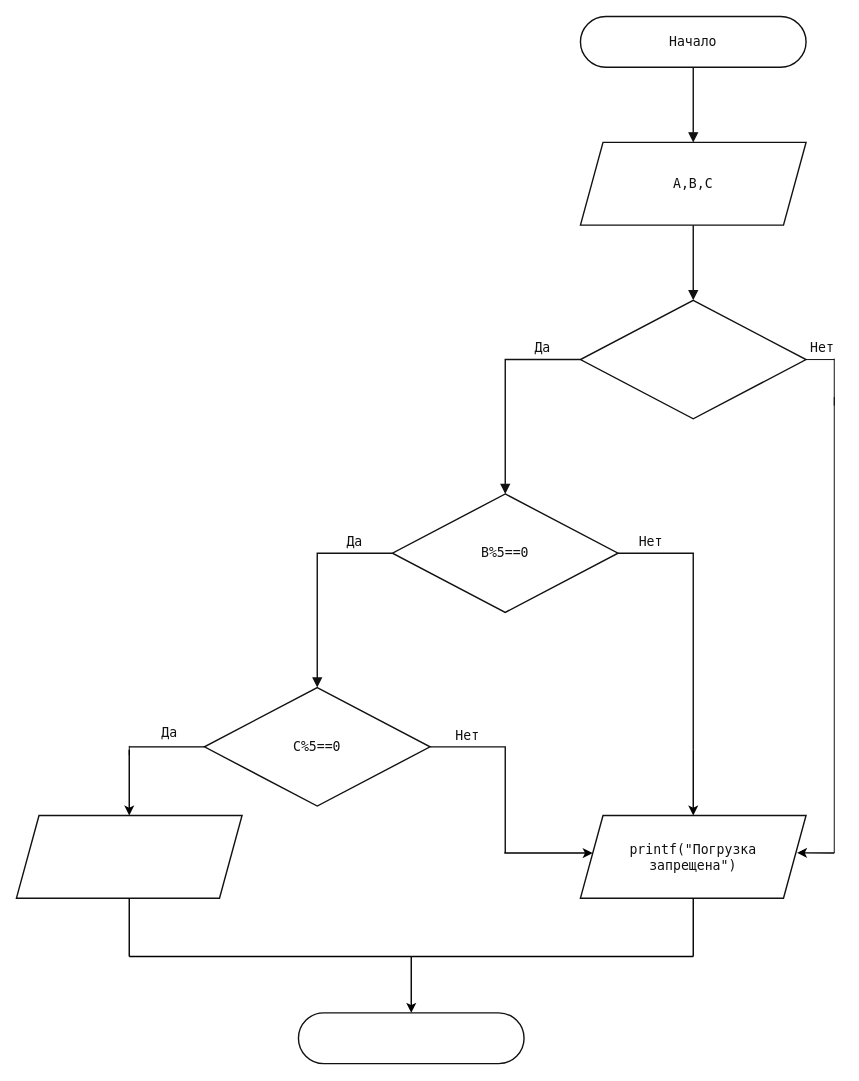
This 859x1081 diagram has some shape labels left out. The box of each missing label's shape, as (x1, y1, x2, y2) in pixels:
A%5==0: (579, 299, 806, 419)
printf("Погрузка разрешена"): (15, 814, 242, 898)
Конец: (297, 1012, 524, 1064)
